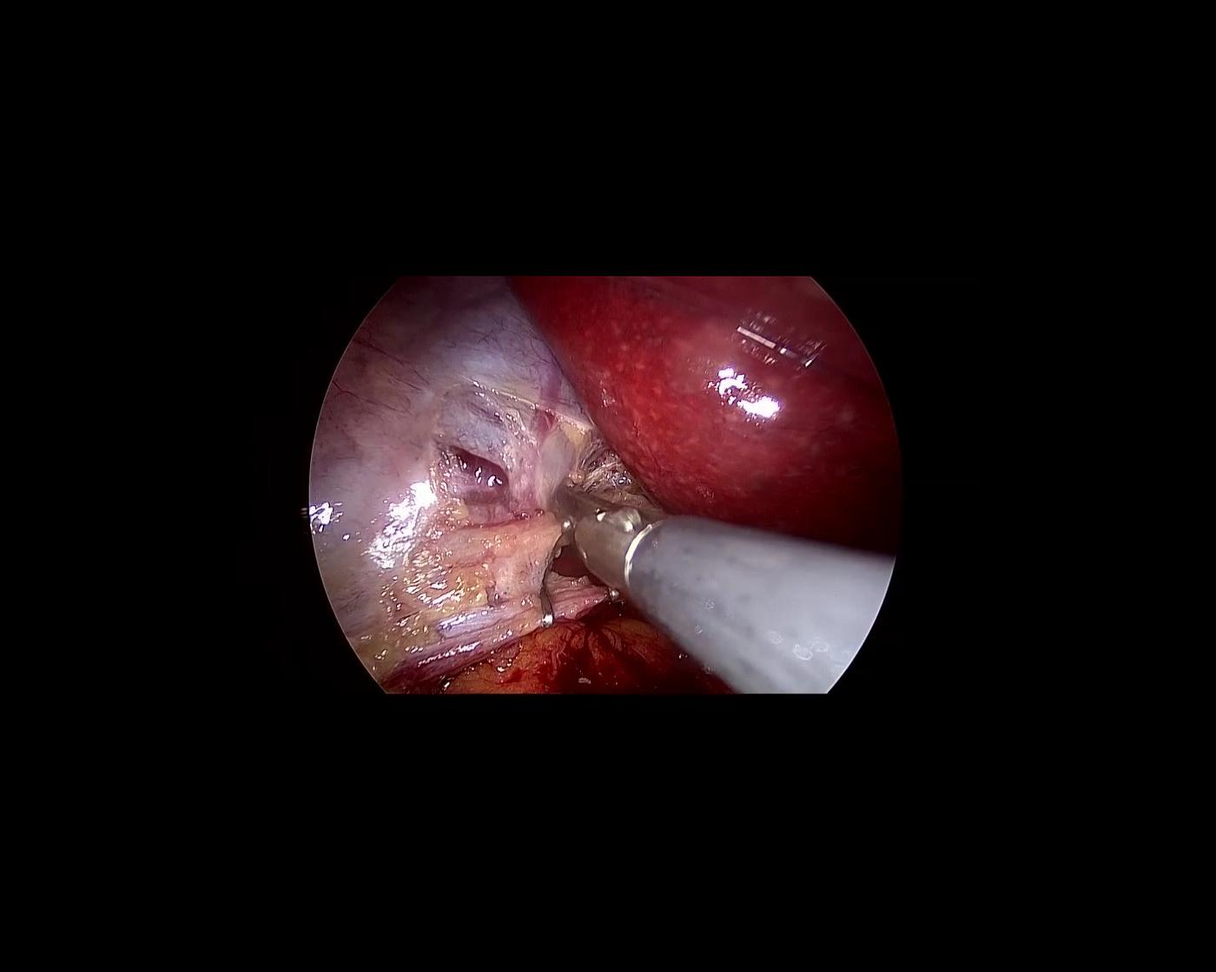Gallbladder: (203, 234, 683, 729)
Liver: (504, 276, 898, 556)
